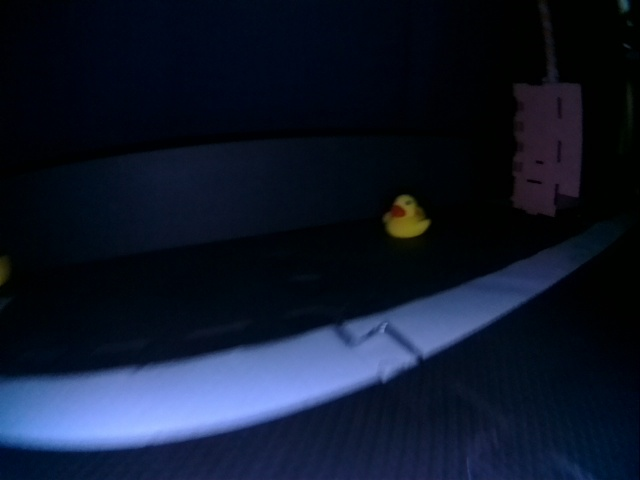Duckie: (384, 195, 428, 238)
